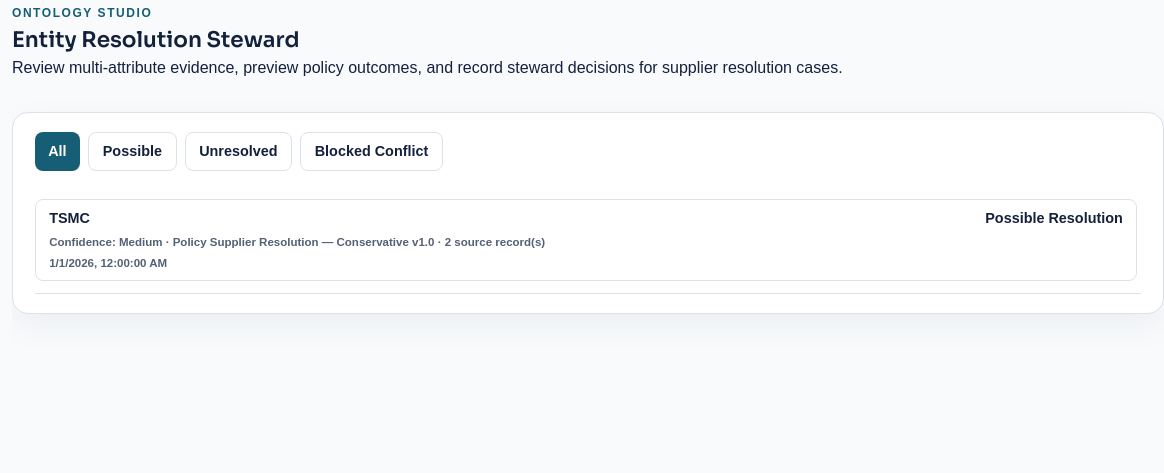
it: a case not found on cross-tenant access shows a bounded not-found state
The image size is (1164, 473).
Click the text "TSMC". click: (70, 218)
box: [49,210,90,226]
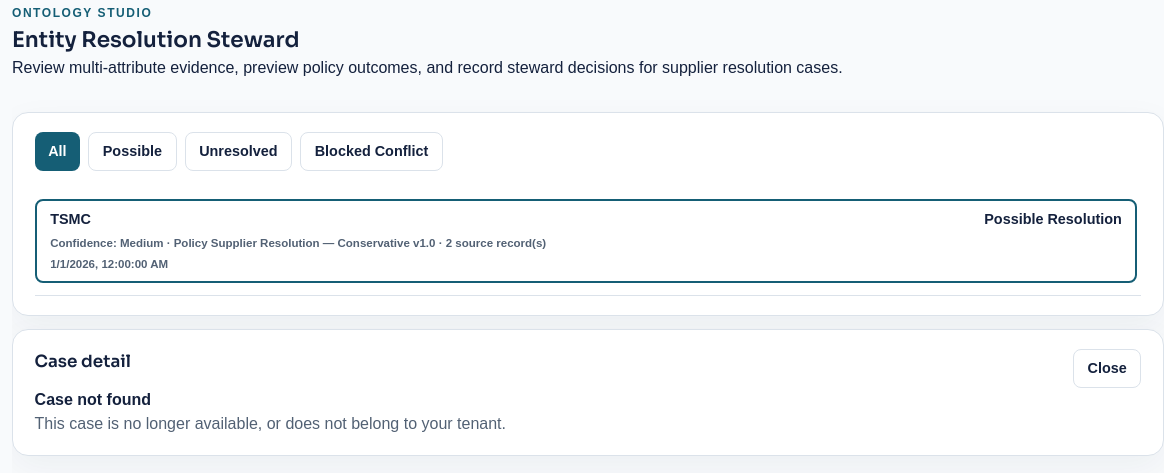
Expected: the text "Case not found" is shown, [35,391,151,408]
